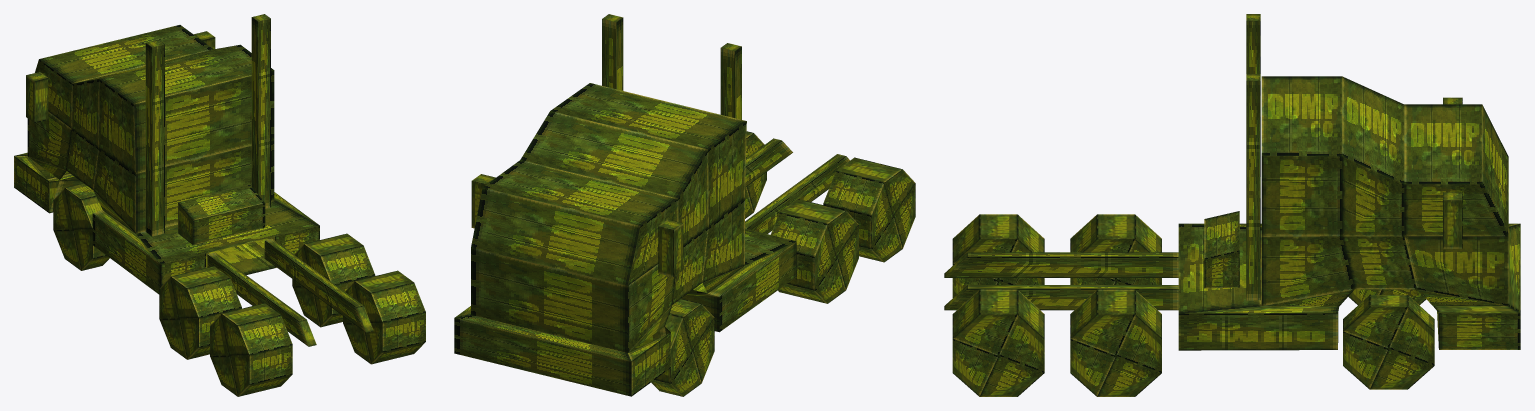
3 renders of one model, left to right at view 1: azimuth 30°, elevation 25°; view 2: azimuth 150°, elevation 25°; view 3: azimuth 270°, elevation 25°, orthographic. The views are drawn at different scales.
Parts seen in each view (by area): view 1: nprim071-f0.004; view 2: nprim071-f0.004; view 3: nprim071-f0.004.
Part boxes in pixels (box(x1,y1,x2,y2)): nprim071-f0.004: box(14, 14, 425, 396); nprim071-f0.004: box(454, 14, 915, 396); nprim071-f0.004: box(944, 14, 1520, 396).
Bounding box in the file's own units: 406 × 554 × 966.
1 material, 1 textured.
